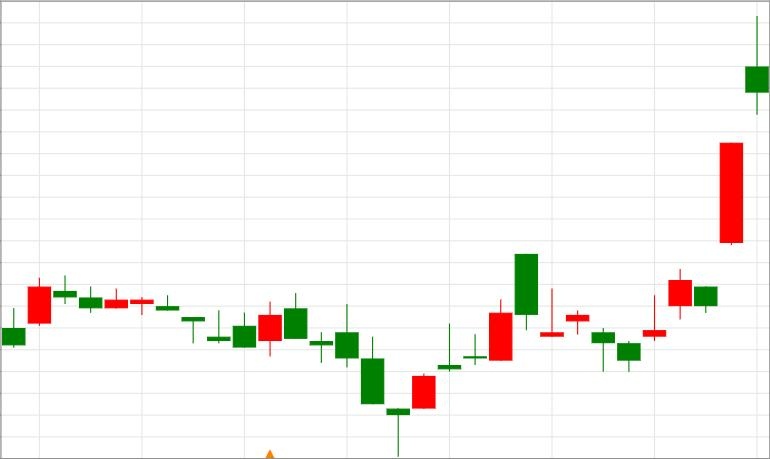evening_star_fall: (284, 292, 436, 457)
shooting_star_fall: (618, 16, 769, 372)
